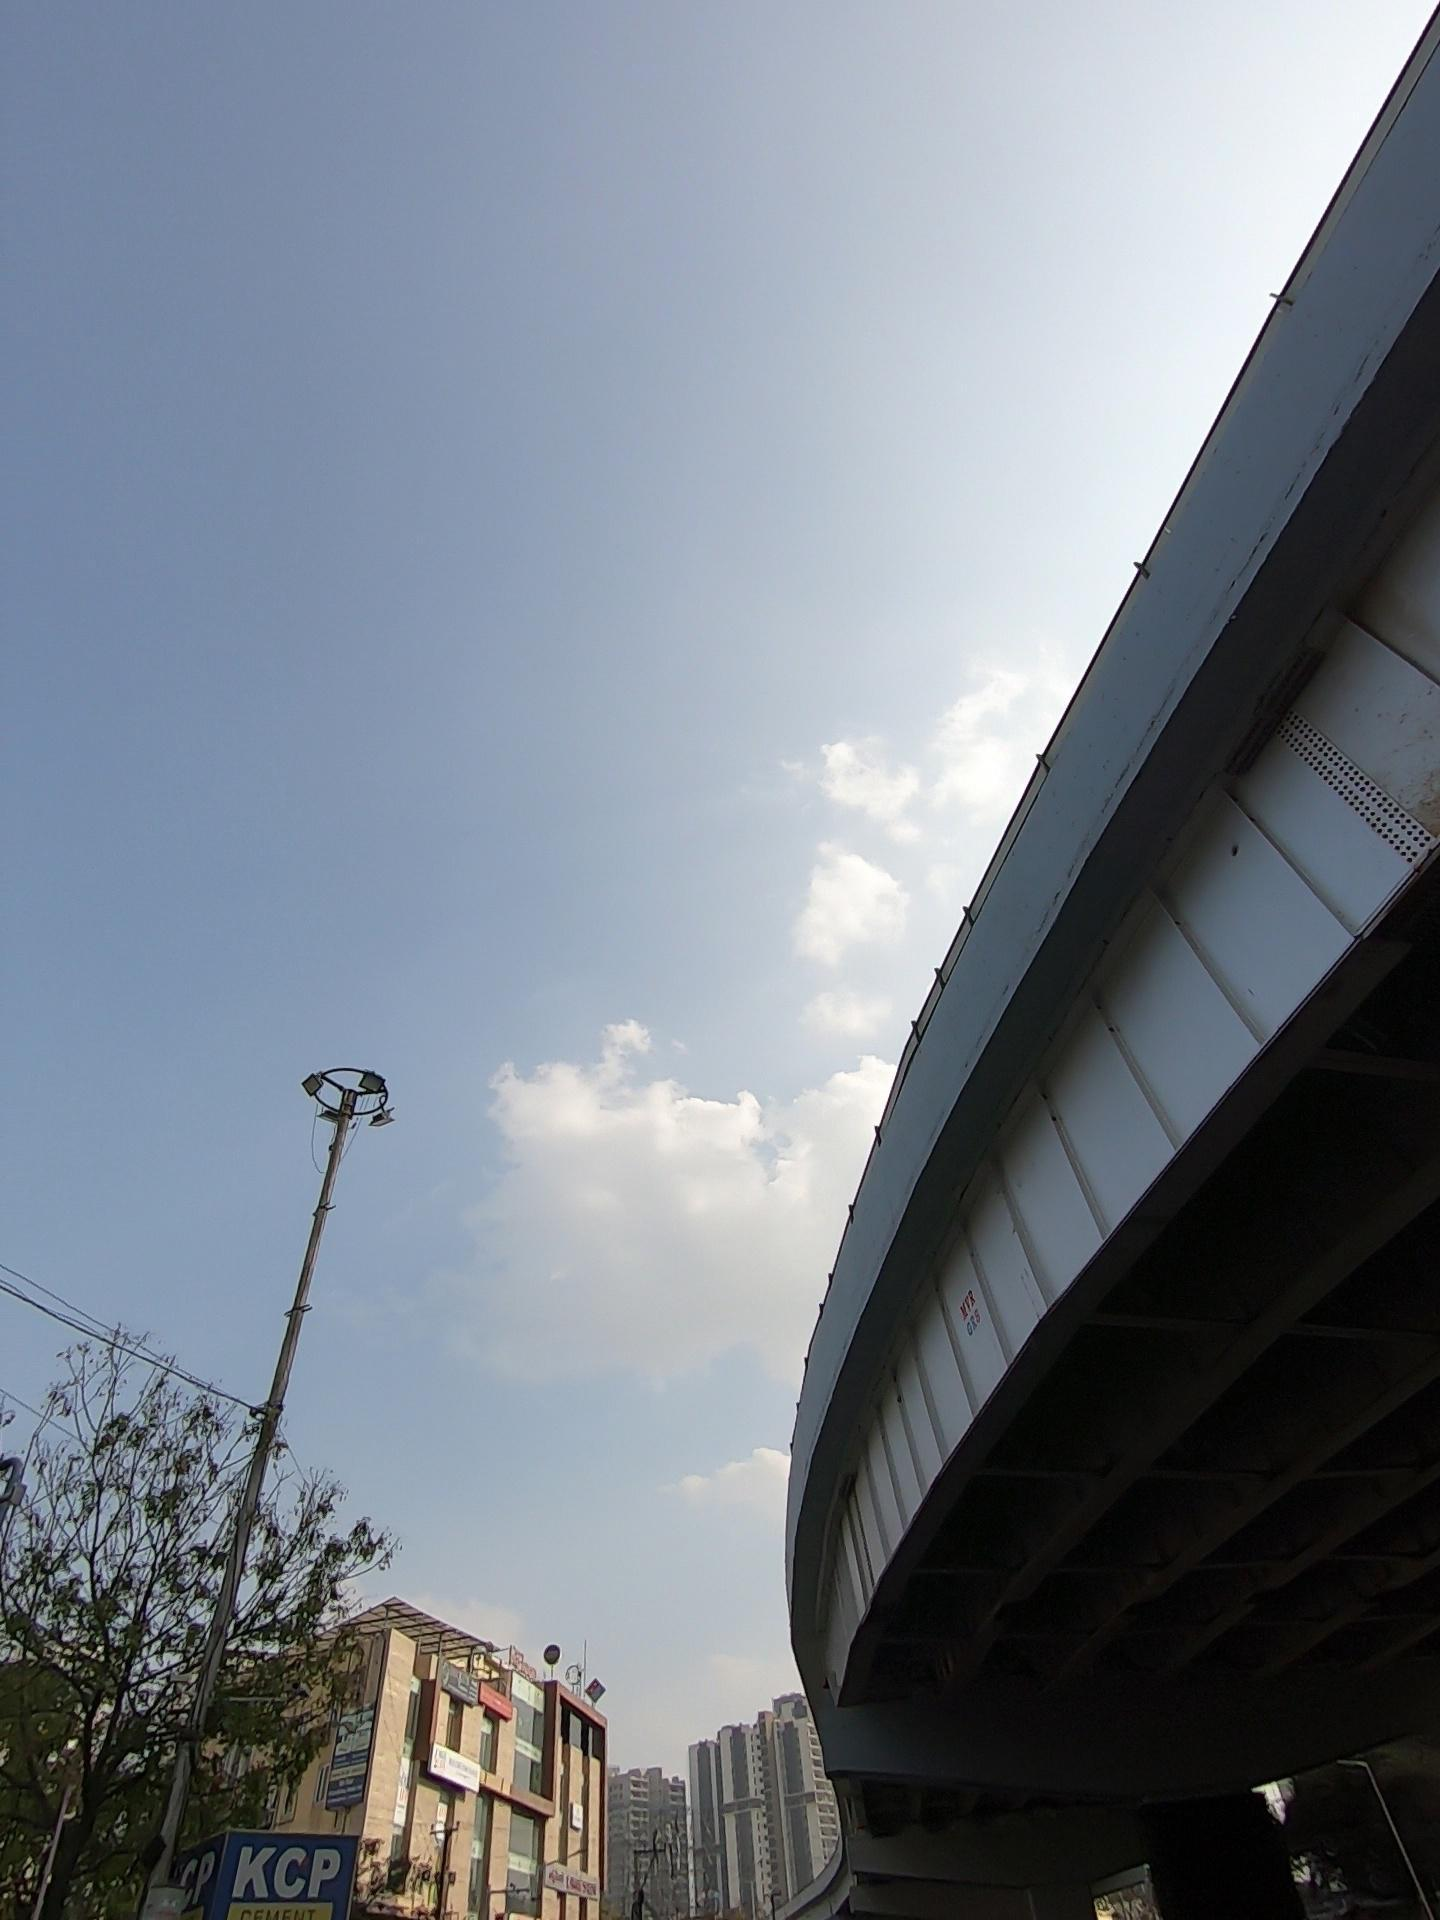off: (265, 992, 464, 1235)
